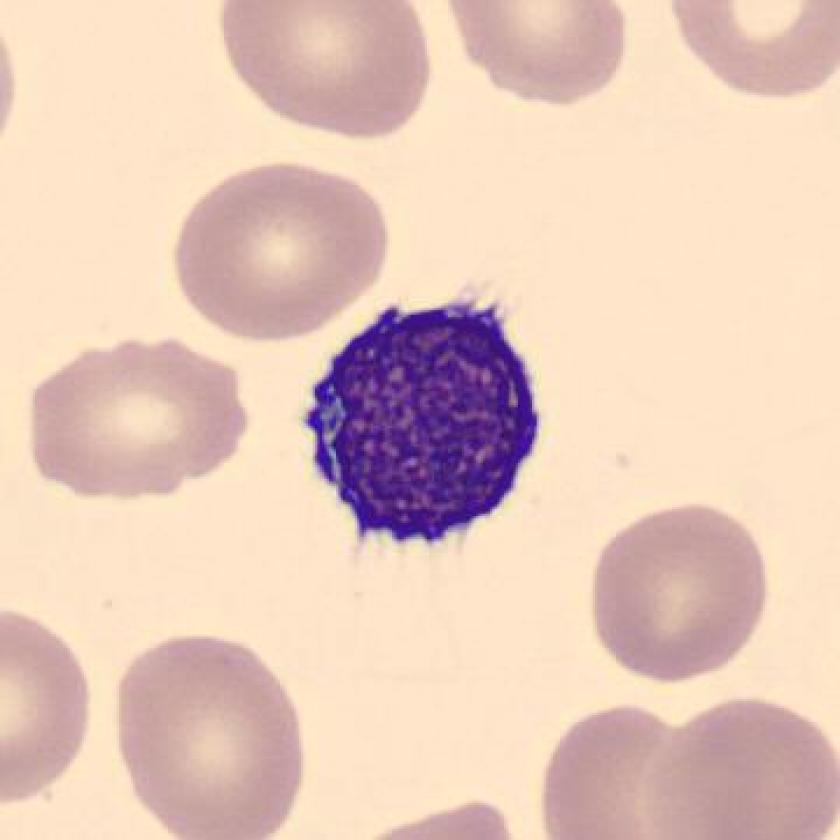lymphocyte: (288, 279, 556, 566)
